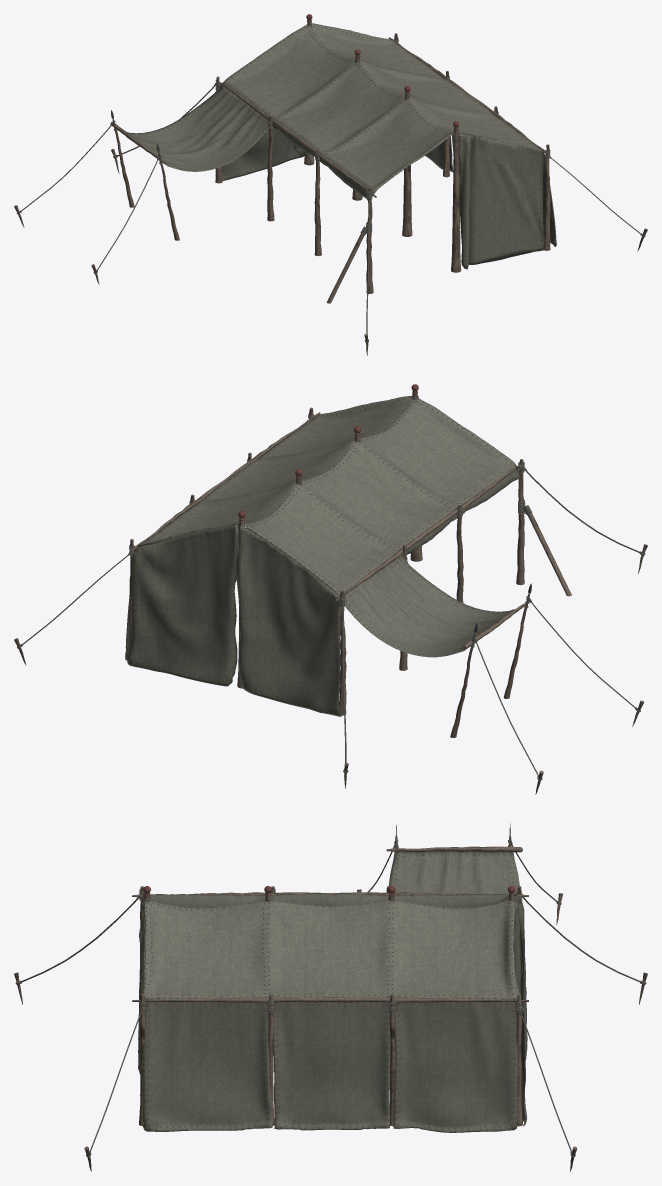
File: tent_02_Sfab.fbx
The picture shows the model from 3 angles, top to bottom: view 1: azimuth 30°, elevation 25°; view 2: azimuth 150°, elevation 25°; view 3: azimuth 270°, elevation 25°; orthographic projection. The views are drawn at different scales.
Parts seen in each view (by area): view 1: Tent_02_top, Tent_02_front_back, Pole_02, Tent_02_sides; view 2: Tent_02_top, Tent_02_front_back, Tent_02_sides, Pole_02; view 3: Tent_02_sides, Tent_02_top, Pole_02, Tent_02_front_back.
Boxes of the visible parts, box(x1,y1,x2,y2) form: Tent_02_top: box(223, 23, 543, 200); Tent_02_front_back: box(218, 25, 545, 269); Pole_02: box(14, 14, 647, 355); Tent_02_sides: box(127, 85, 556, 246); Tent_02_top: box(138, 396, 519, 606); Tent_02_front_back: box(127, 404, 410, 716); Tent_02_sides: box(125, 524, 514, 660); Pole_02: box(14, 384, 647, 794); Tent_02_sides: box(142, 851, 519, 1132); Tent_02_top: box(142, 892, 516, 999); Pole_02: box(14, 823, 647, 1171); Tent_02_front_back: box(138, 895, 527, 1126).
Size of the model in its own units: 10.08 by 3.52 by 9.98.
Materials: 4 (4 with a texture image).
